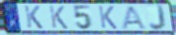5: (71, 4, 95, 31)
A: (120, 5, 149, 31)
J: (148, 3, 167, 31)
K: (47, 5, 69, 30), (96, 5, 118, 30), (22, 5, 44, 30)
